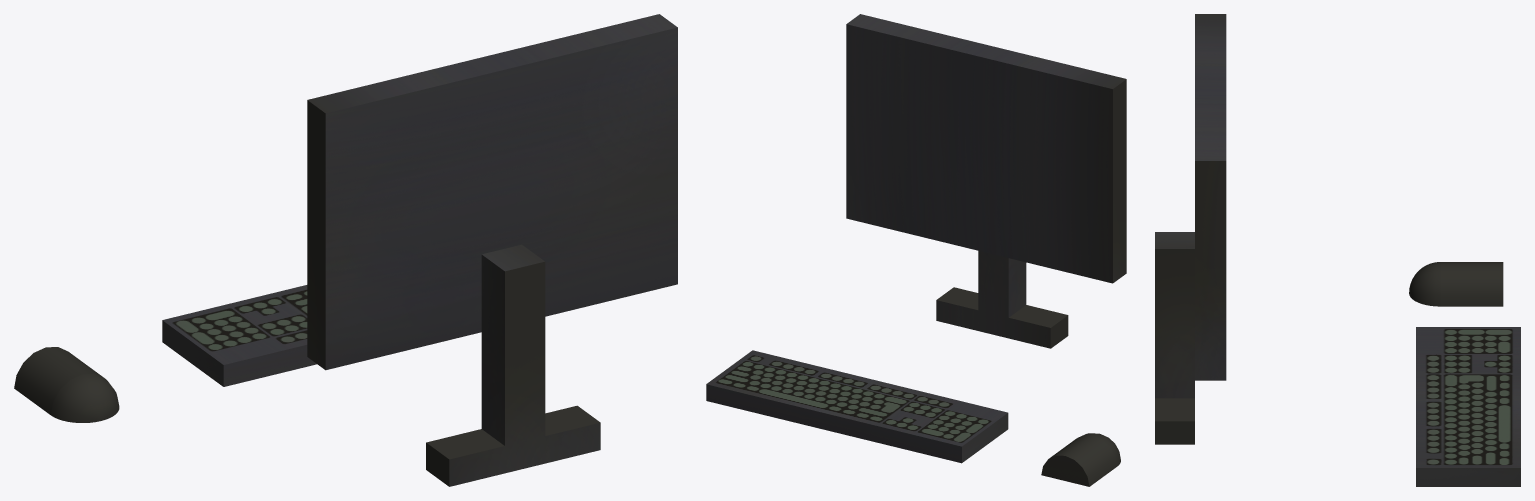
Rendered from comp.fbx.
The picture shows the model from 3 angles, left to right: view 1: azimuth 30°, elevation 25°; view 2: azimuth 150°, elevation 25°; view 3: azimuth 270°, elevation 25°; orthographic projection. The views are drawn at different scales.
Visible parts, largest first — view 1: polySurface4; view 2: polySurface4; view 3: polySurface4.
Part boxes in pixels (box(x1,y1,x2,y2)): polySurface4: box(14, 14, 677, 486); polySurface4: box(706, 14, 1126, 486); polySurface4: box(1155, 14, 1520, 486).
Size of the model in its own units: 1.09 by 0.8 by 0.8143.
Materials: 2 (2 with a texture image).
